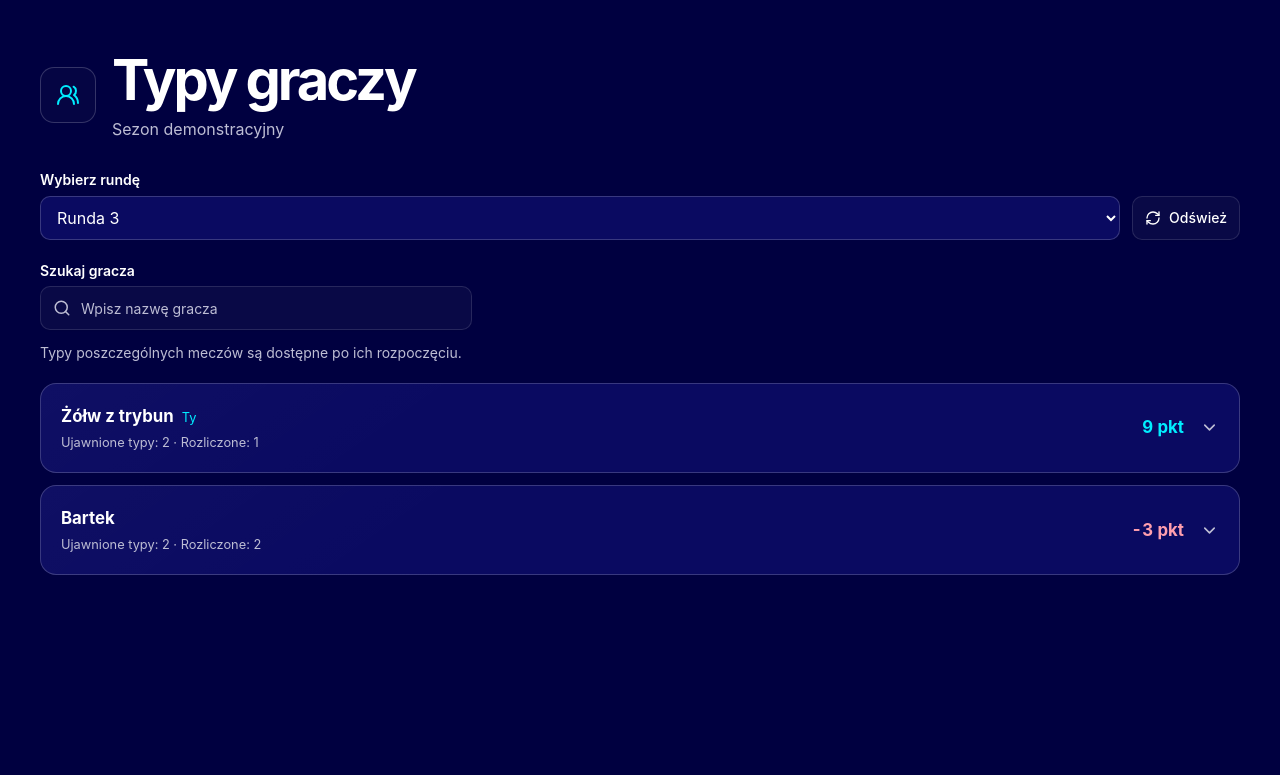
opens full match details from a player's prediction
The image size is (1280, 775).
Click the button "Żółw z trybun" at (117, 416), box [41,384,1239,472]
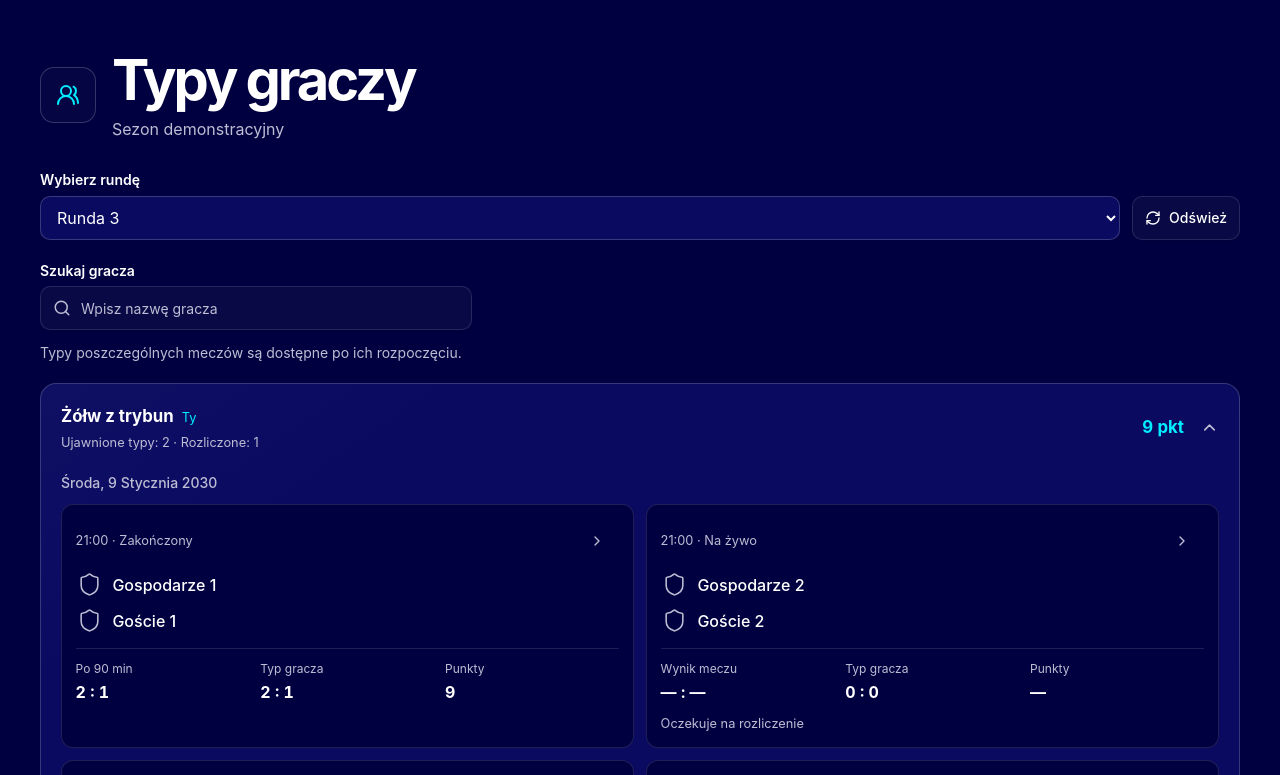
Click the button named "Szczegóły: Gospodarze 1 — Goście 1" at (597, 541), box [575,519,619,563]
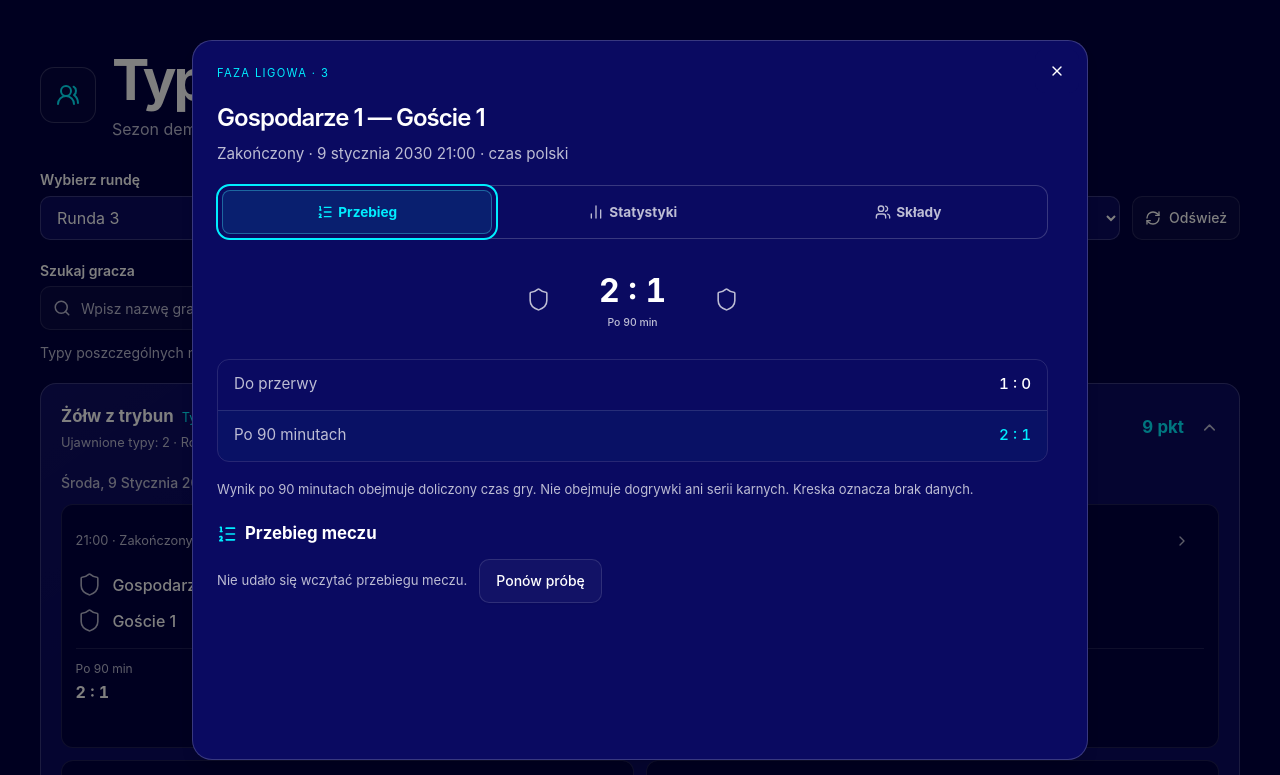
Result: the text "Po 90 minutach" is shown at [234,424,346,447]
Result: the text "Do przerwy" is shown at [234,373,317,396]
